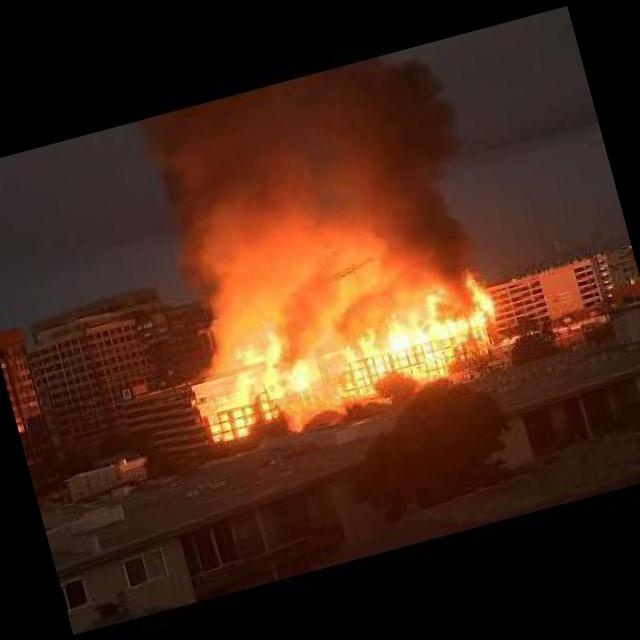Fire: (177, 264, 516, 454)
Smoke: (123, 40, 499, 346)
